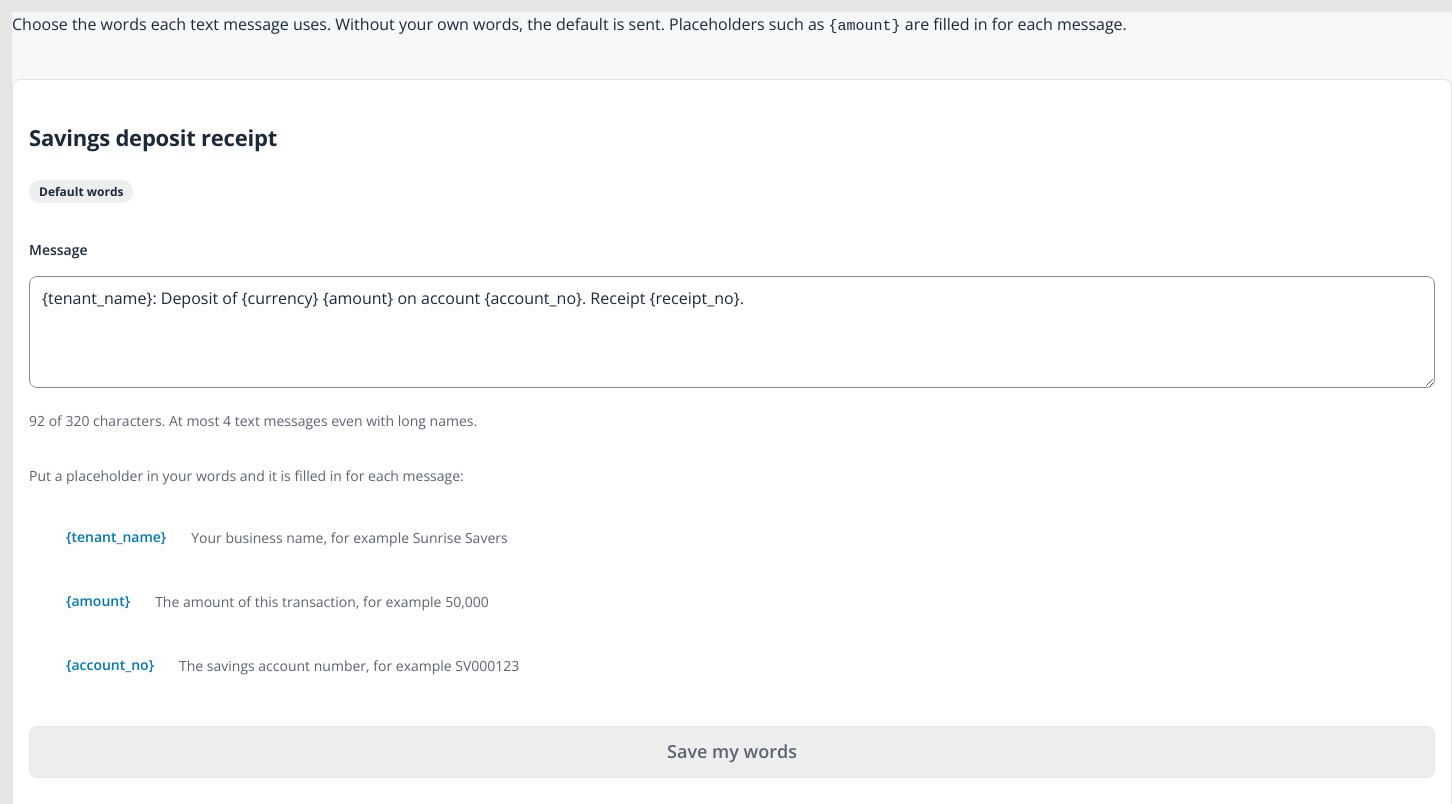
Test: the wording › inserts a placeholder from its button, and offers no balance among them
Replace the text in the text box labelled "Message" with "Paid " at (732, 332), box top-left (29, 276), bottom-right (1435, 388)
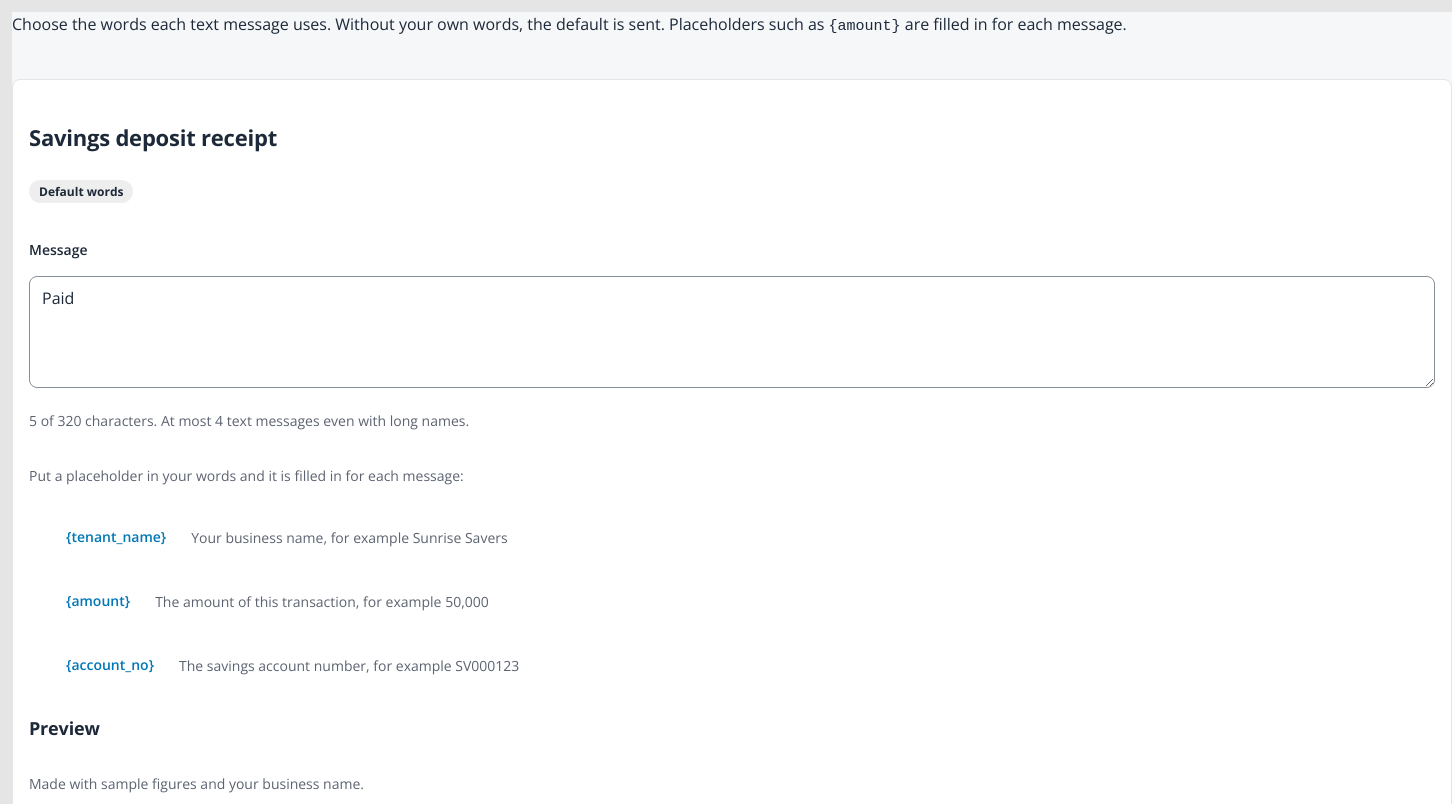
Click the button with aria-label "Insert {amount}" at (98, 602), box top-left (53, 578), bottom-right (143, 626)
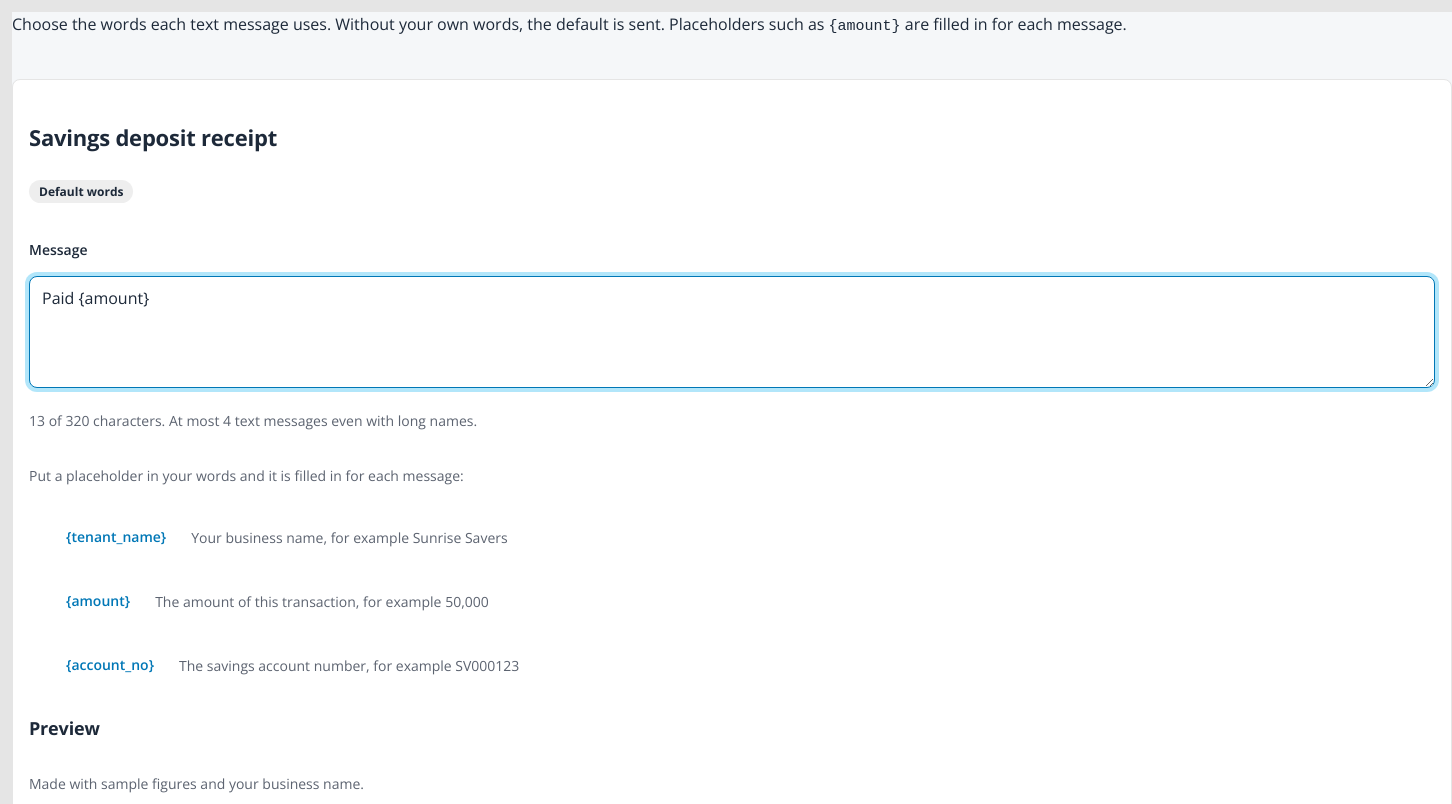
Result: the text box labelled "Message" holds "Paid {amount}" at top-left (29, 276), bottom-right (1435, 388)
